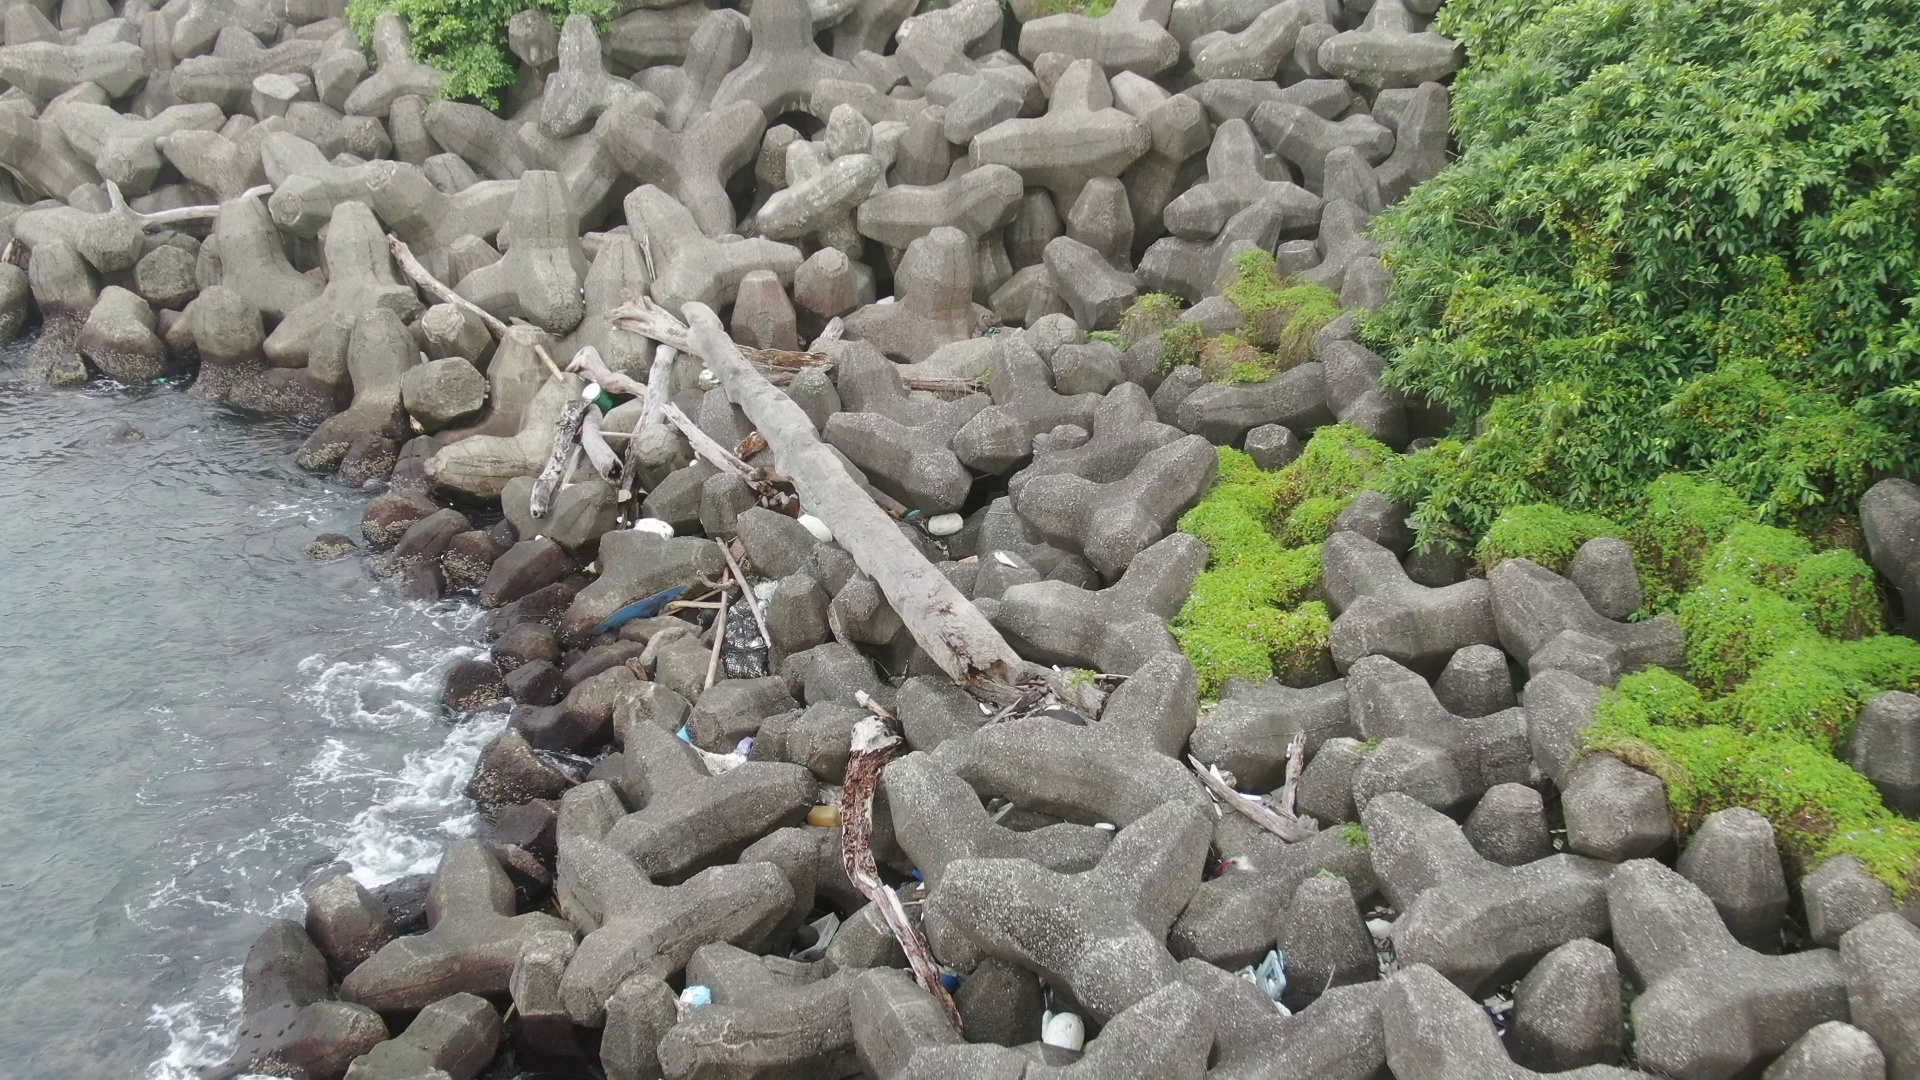garbage: (554, 563, 712, 647), (716, 563, 798, 679), (671, 705, 773, 793), (568, 361, 644, 436), (1226, 942, 1294, 1021), (899, 945, 982, 1000), (1025, 1000, 1095, 1056), (802, 789, 855, 837), (927, 502, 980, 541), (622, 513, 686, 545), (798, 506, 839, 553), (673, 977, 716, 1011)
